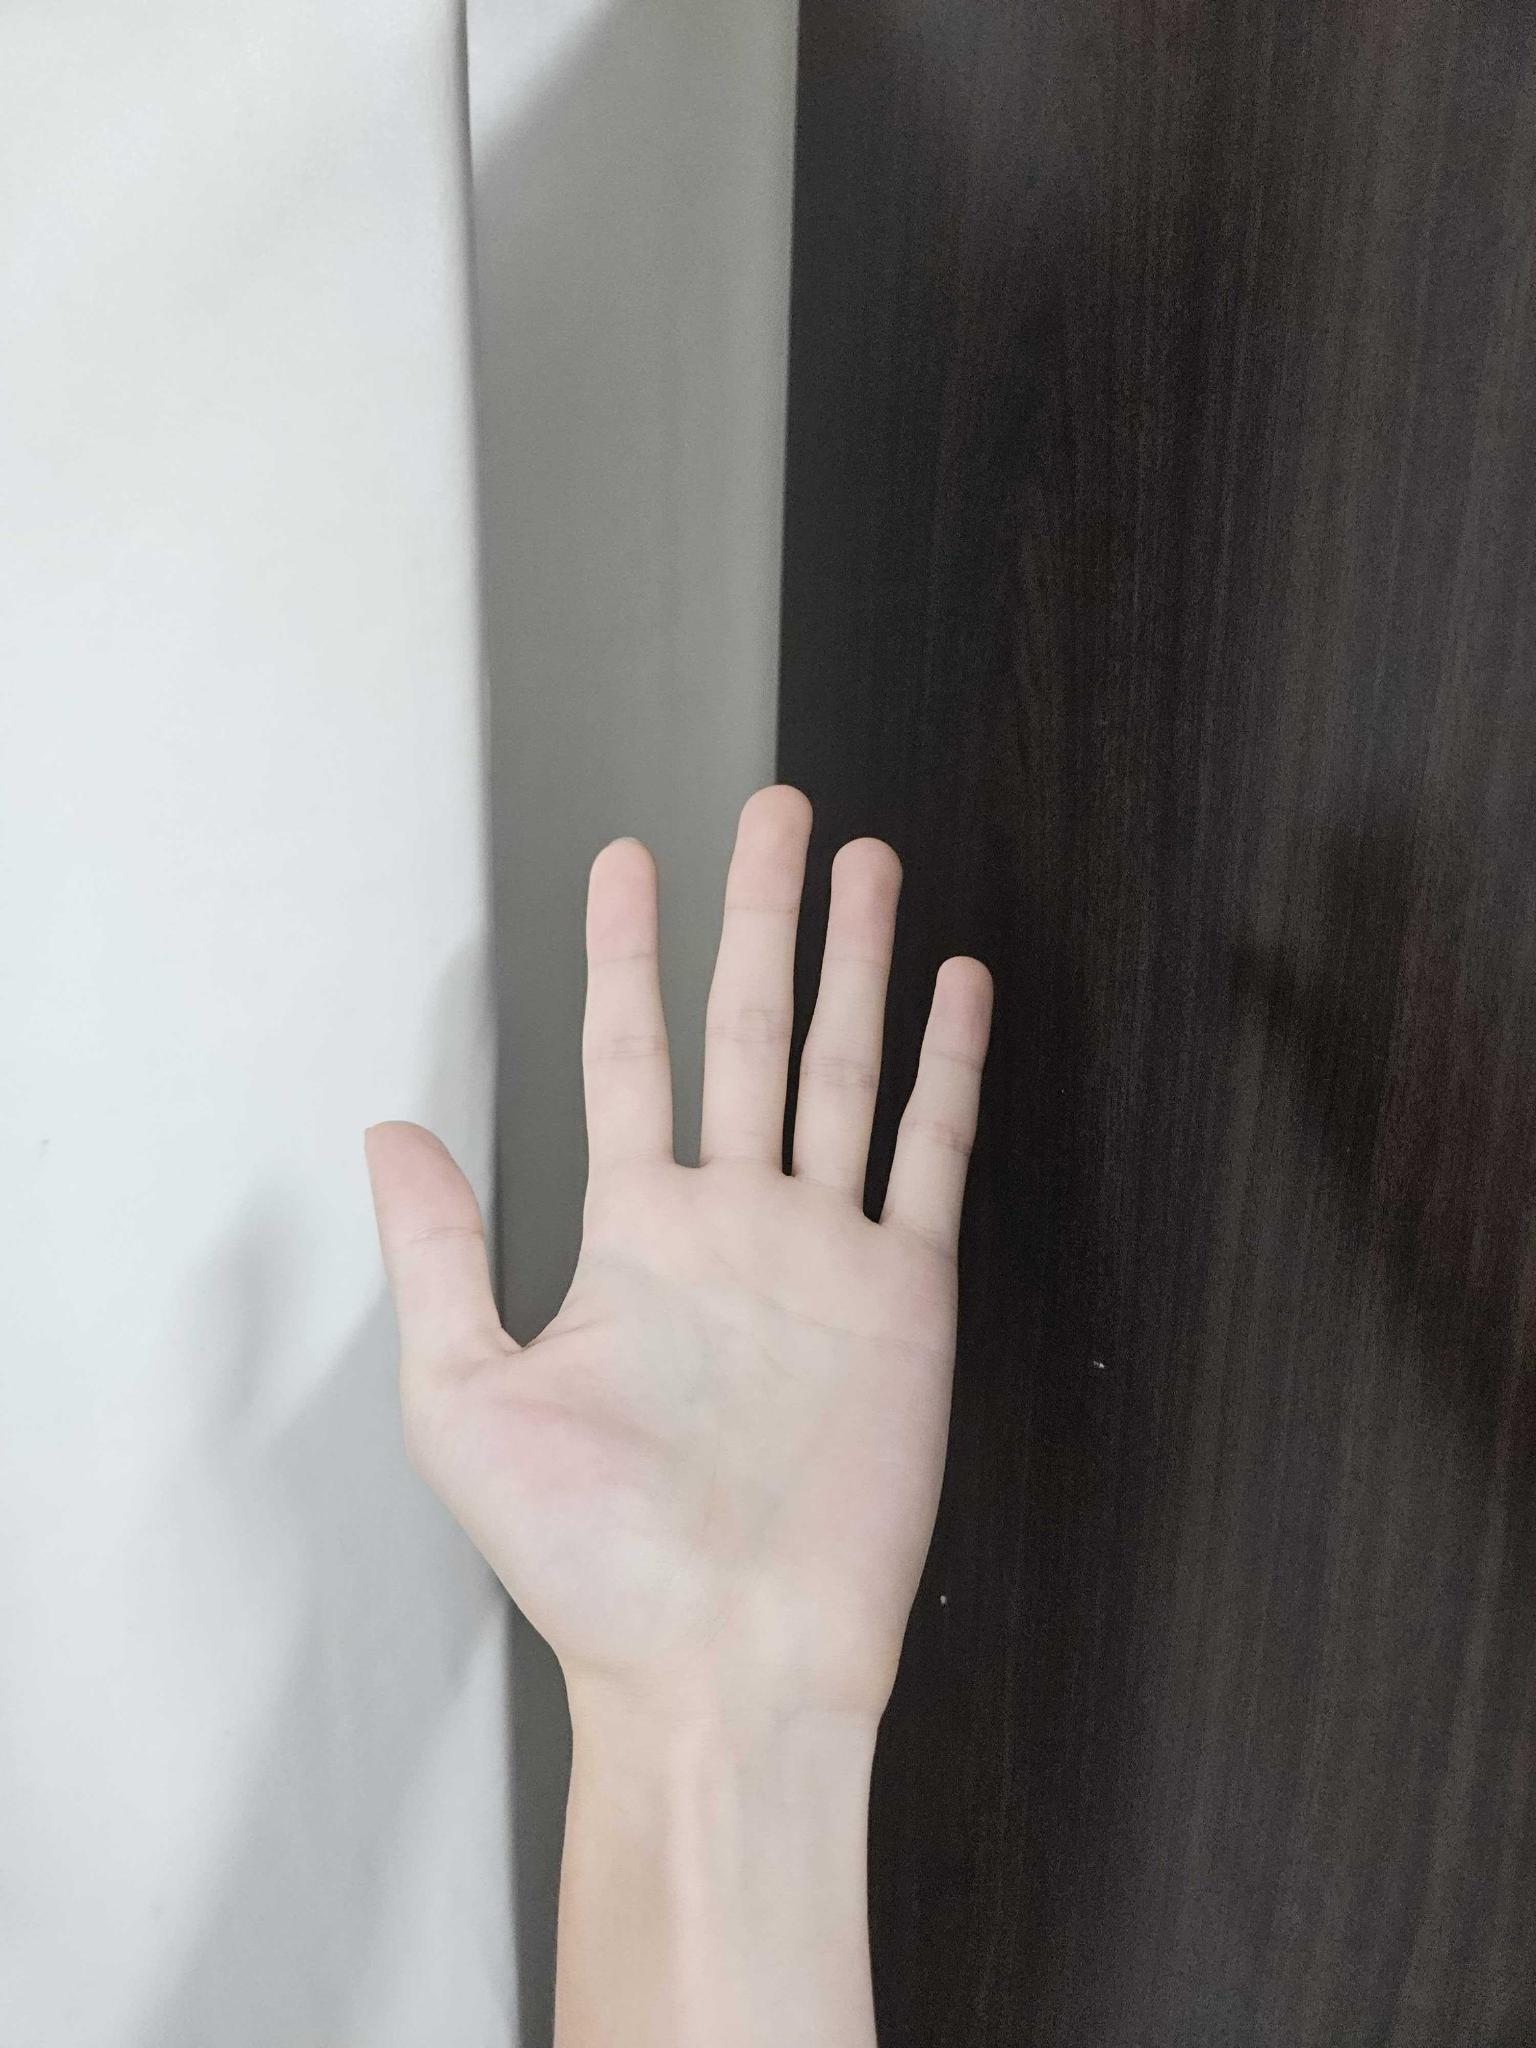open: (358, 779, 1007, 1724)
